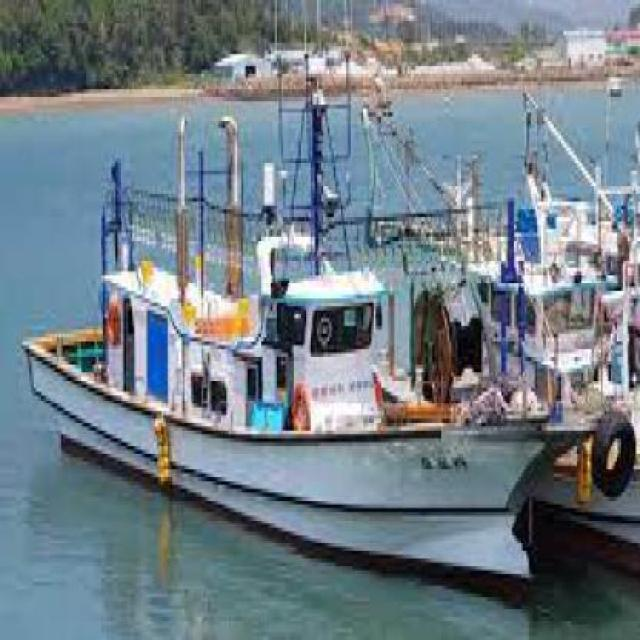fish-b: (18, 51, 606, 622)
